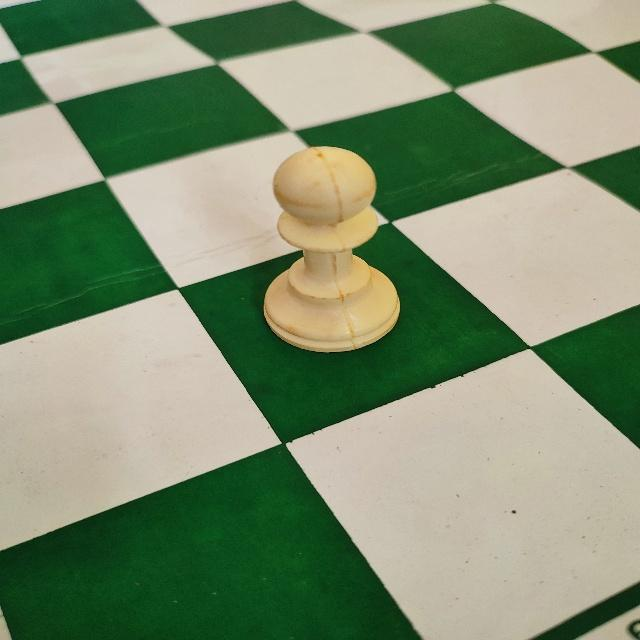Pawn: (259, 143, 404, 358)
